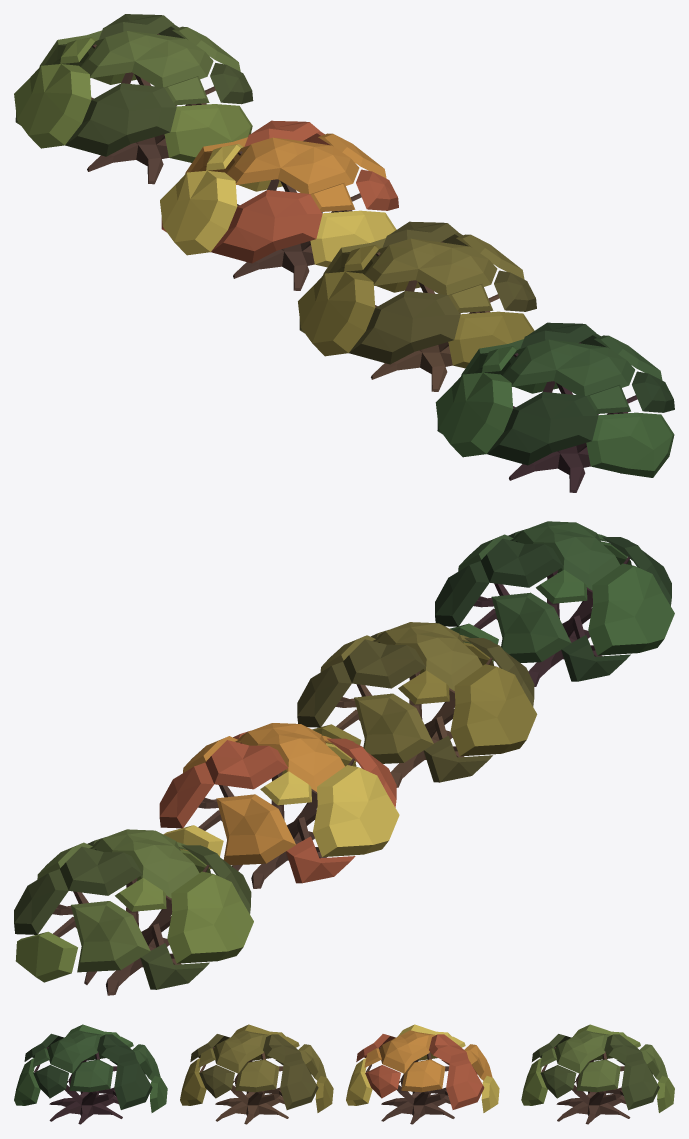
The model's file is Tree1.gltf.
3 renders of one model, top to bottom at view 1: azimuth 30°, elevation 25°; view 2: azimuth 150°, elevation 25°; view 3: azimuth 270°, elevation 25°, orthographic. The views are drawn at different scales.
Parts seen in each view (by area): view 1: Tree_Type0_01_mesh.002, Tree_Type0_01_mesh.003, Tree_Type0_01_mesh, Tree_Type0_01_mesh.001; view 2: Tree_Type0_01_mesh.003, Tree_Type0_01_mesh, Tree_Type0_01_mesh.001, Tree_Type0_01_mesh.002; view 3: Tree_Type0_01_mesh, Tree_Type0_01_mesh.003, Tree_Type0_01_mesh.001, Tree_Type0_01_mesh.002.
Part boxes in pixels (bbox=[...]): Tree_Type0_01_mesh.002: bbox=[435, 322, 674, 492]; Tree_Type0_01_mesh.003: bbox=[14, 14, 253, 184]; Tree_Type0_01_mesh: bbox=[160, 120, 398, 290]; Tree_Type0_01_mesh.001: bbox=[298, 221, 536, 391]; Tree_Type0_01_mesh.003: bbox=[14, 829, 253, 995]; Tree_Type0_01_mesh: bbox=[159, 723, 399, 888]; Tree_Type0_01_mesh.001: bbox=[297, 622, 537, 787]; Tree_Type0_01_mesh.002: bbox=[435, 521, 674, 686]; Tree_Type0_01_mesh: bbox=[346, 1024, 499, 1124]; Tree_Type0_01_mesh.003: bbox=[521, 1024, 674, 1124]; Tree_Type0_01_mesh.001: bbox=[180, 1024, 333, 1124]; Tree_Type0_01_mesh.002: bbox=[14, 1024, 167, 1124].
Size of the model in its own units: 5.83 by 3.51 by 27.28.
Materials: 4 (4 with a texture image).
